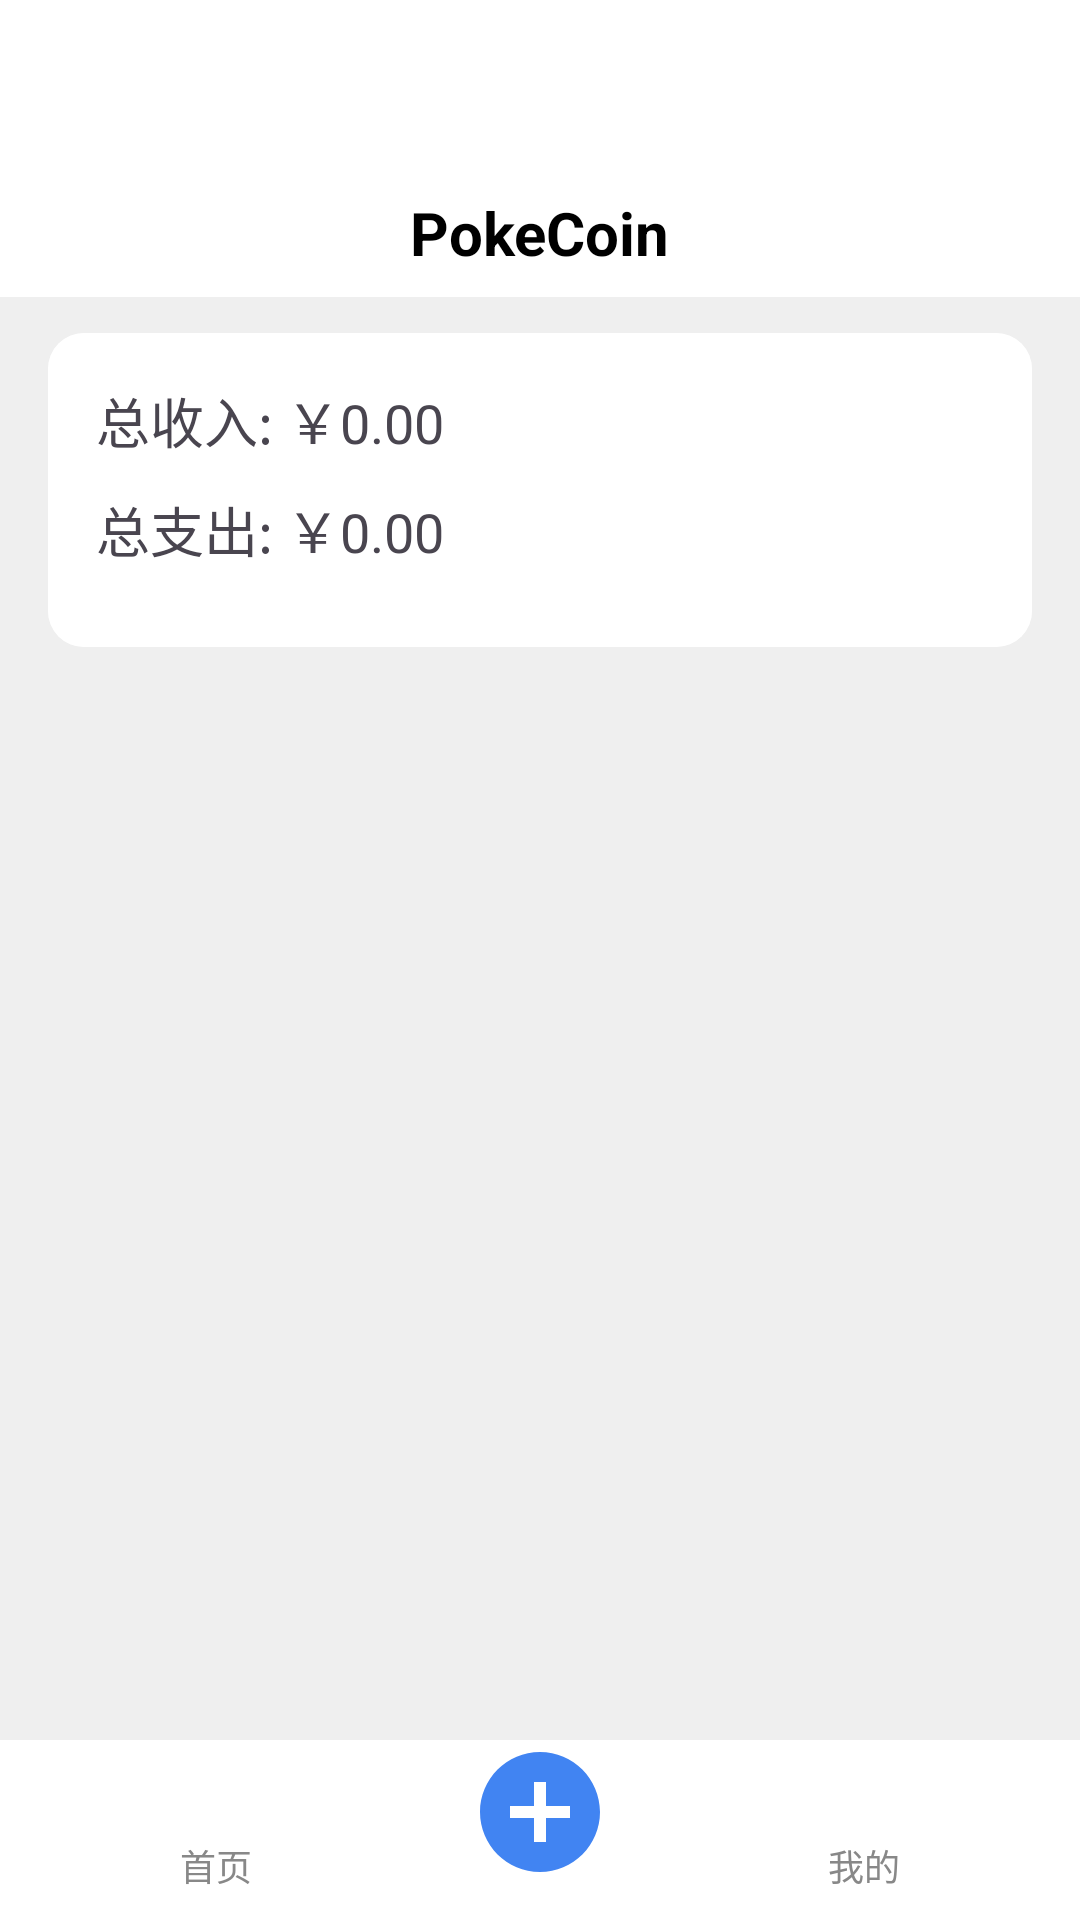

Icon bounding boxes for this 1080x1920 phone screenshot, format rect(x1, y1, x2, y2):
Add Transaction: rect(480, 1752, 600, 1872)
